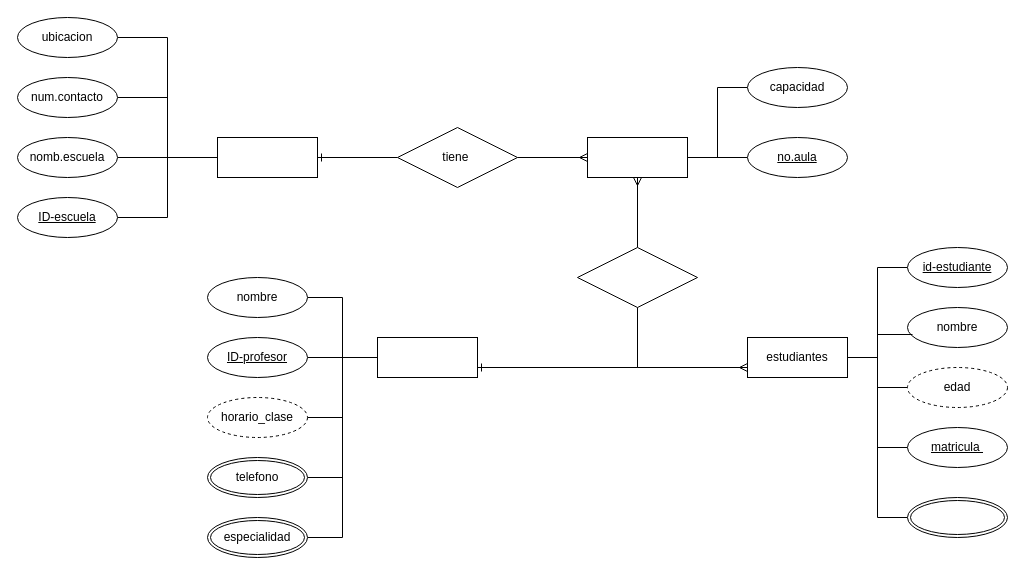
Image size: 1025x575. Some labels were removed from this diagram. Each missing label, with the centre of its shape:
"aulas" goes at (x=637, y=157).
"contiene" goes at (x=637, y=277).
"escuela" goes at (x=267, y=157).
"num.telefonico" goes at (x=957, y=517).
"profesor" goes at (x=427, y=357).
